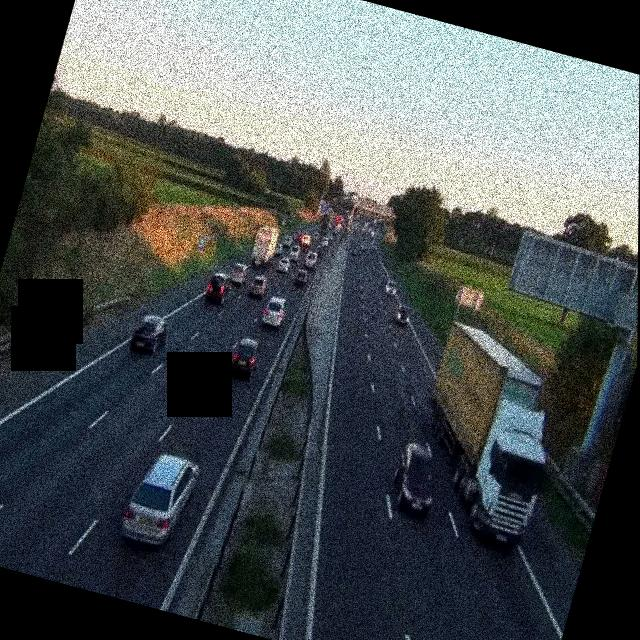car: (118, 446, 202, 553), (384, 439, 446, 518), (127, 312, 171, 358), (226, 336, 262, 380), (202, 270, 232, 307), (259, 294, 288, 330), (247, 272, 268, 298), (393, 300, 412, 326), (229, 262, 250, 285), (275, 253, 292, 273), (292, 268, 309, 288), (383, 278, 399, 297), (301, 252, 316, 270), (350, 244, 359, 255)
truck: (397, 320, 581, 550), (245, 222, 281, 272)
